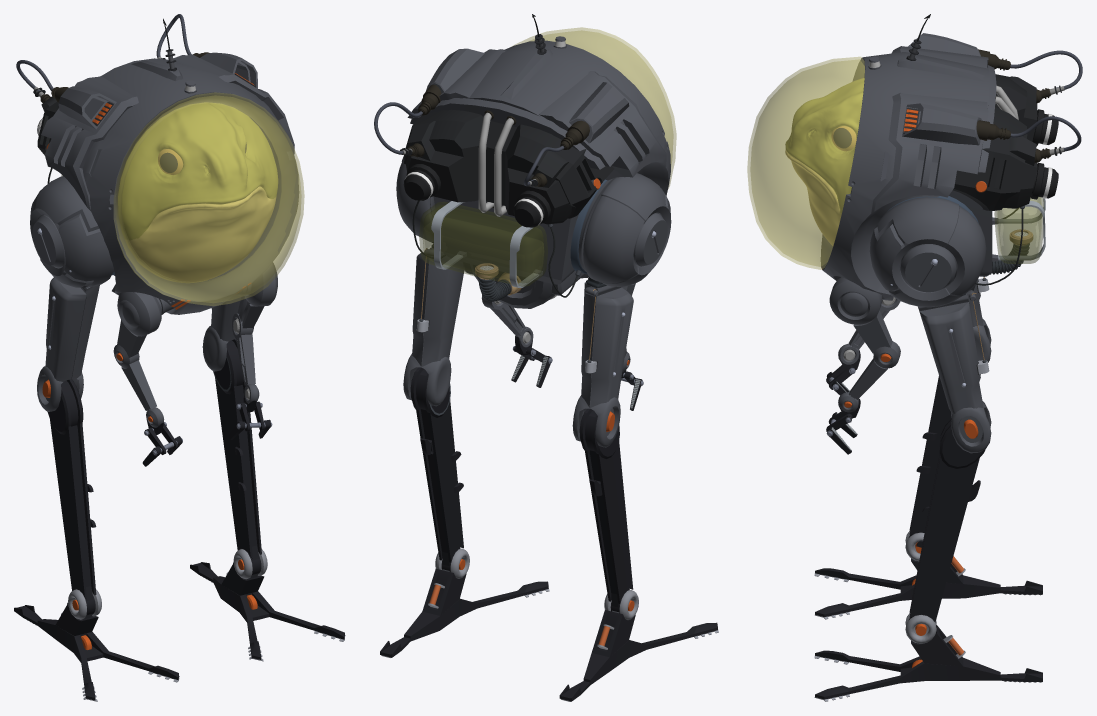
File: Maksym.fbx
3 views of the same model, side by side, from view 1: azimuth 30°, elevation 25°; view 2: azimuth 150°, elevation 25°; view 3: azimuth 270°, elevation 25° (orthographic). The views are drawn at different scales.
Parts seen in each view (by area): view 1: Cube.026, Frog, Cylinder.015, Cube.024, Cylinder.030, Sphere.017, Cube.044, Cube.023, Sphere.005, Cylinder.018, Cube.052, Cube.047 (+13 smaller); view 2: Cube.024, Sphere.017, Cylinder.015, Cylinder.019, Cube.055, Cube.054, Cylinder.030, Cube.023, Cube.052, Cube.044, Cylinder.038, Cube.026 (+17 smaller); view 3: Cube.026, Cylinder.015, Sphere.017, Cube.024, Cylinder.030, Frog, Cube.044, Cube.023, Cylinder.019, Cube.047, Cube.055, Sphere.014 (+21 smaller).
Boxes of the visible parts, x1,y1,x2,y2 form: Cube.026: (114,92,304,305); Frog: (118,102,278,282); Cylinder.015: (82,58,298,314); Cube.024: (50,378,261,597); Cylinder.030: (41,54,294,210); Sphere.017: (30,176,298,287); Cube.044: (14,562,344,700); Cube.023: (45,277,86,381); Sphere.005: (117,262,277,336); Cylinder.018: (47,339,244,434); Cube.052: (71,285,241,386); Cube.047: (58,52,257,129); Cube.024: (416,399,633,603); Sphere.017: (396,155,671,286); Cylinder.015: (463,40,670,278); Cylinder.019: (404,109,614,218); Cube.055: (419,202,547,286); Cube.054: (433,196,578,284); Cylinder.030: (407,49,666,177); Cube.023: (412,253,633,407); Cube.052: (422,247,621,415); Cube.044: (380,581,717,701); Cylinder.038: (405,150,571,224); Cube.026: (511,27,676,188); Cube.026: (747,57,864,269); Cylinder.015: (821,52,989,300); Sphere.017: (869,197,986,307); Cube.024: (909,376,979,622); Cylinder.030: (871,46,988,213); Frog: (785,78,864,245); Cube.044: (815,568,1042,699); Cube.023: (919,302,983,414); Cylinder.019: (953,74,1027,210); Cube.047: (902,33,981,145); Cube.055: (994,197,1044,263); Sphere.014: (900,244,956,292).
Size of the model in its own units: 9066 by 20205 by 9864.
